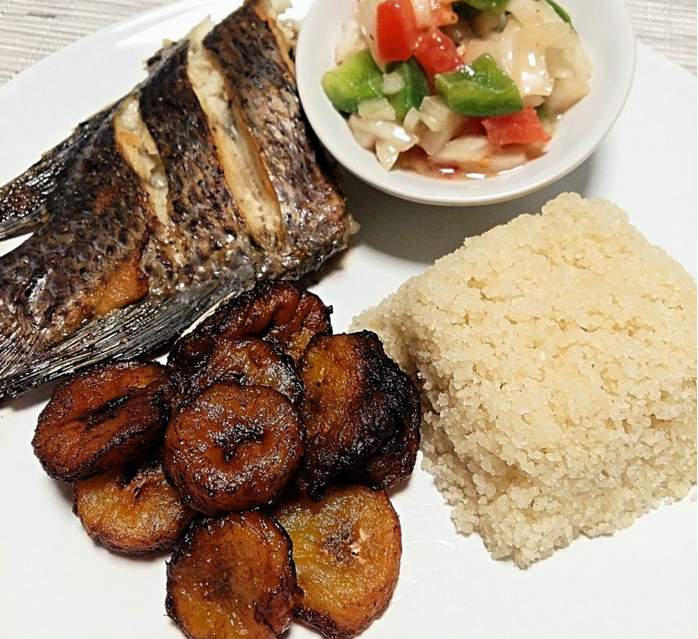alloco: (67, 400, 385, 529)
attieke: (418, 292, 698, 448)
crudite: (355, 12, 550, 149)
poisson_braise: (11, 150, 313, 282)
